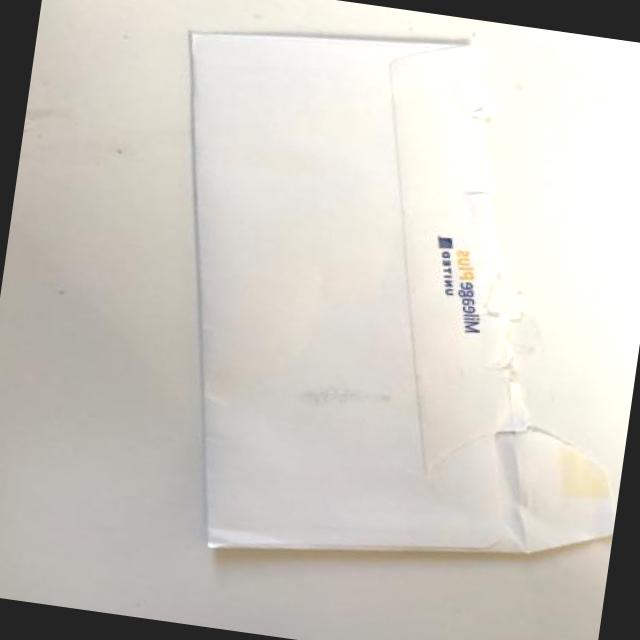paper: (101, 0, 598, 589)
